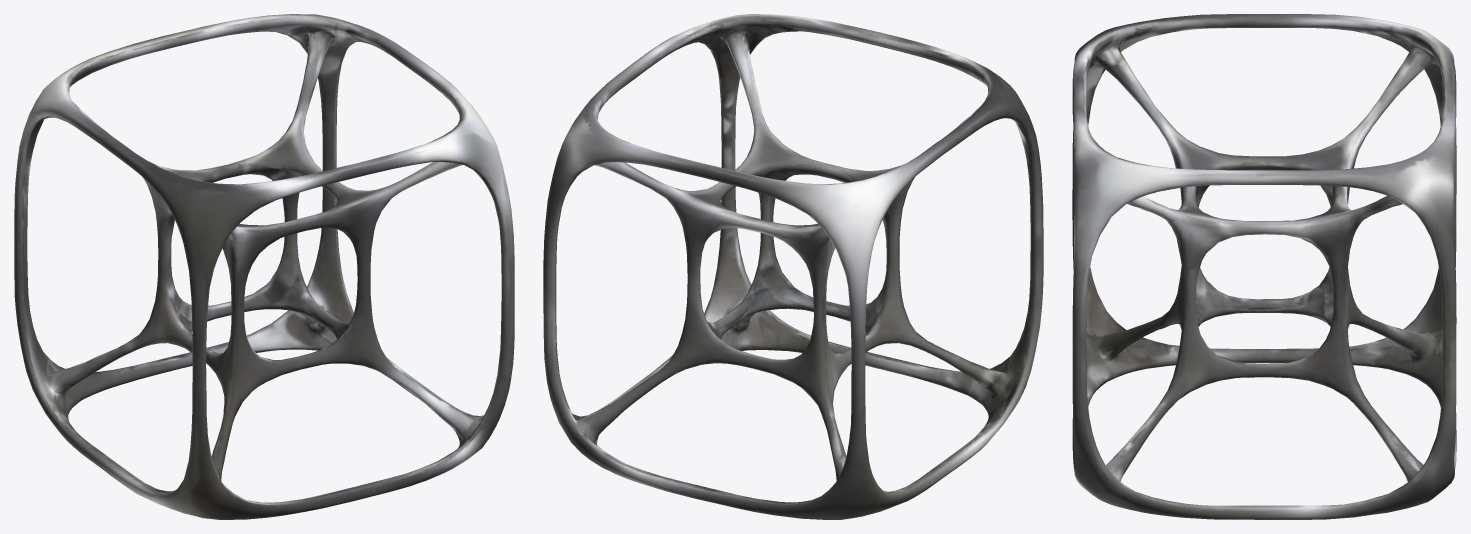
Rendered from addiCraft-cube3D-2.glb.
3 renders of one model, left to right at view 1: azimuth 30°, elevation 25°; view 2: azimuth 150°, elevation 25°; view 3: azimuth 270°, elevation 25°, orthographic. The views are drawn at different scales.
Size of the model in its own units: 2 by 2 by 2.
1 material, 1 textured.
